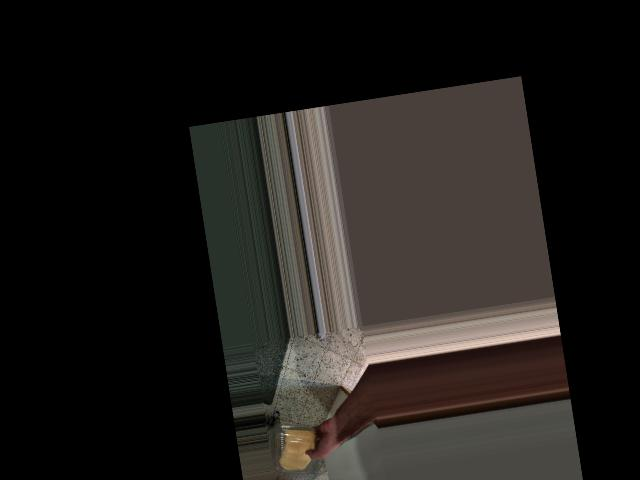cheese: (270, 420, 322, 475)
